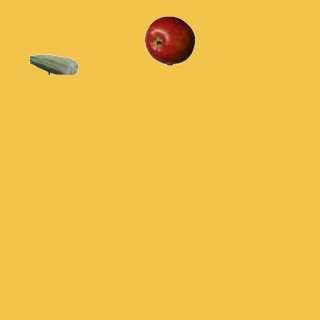Apple Braeburn: (144, 15, 194, 65)
Corn Husk: (28, 39, 78, 89)
